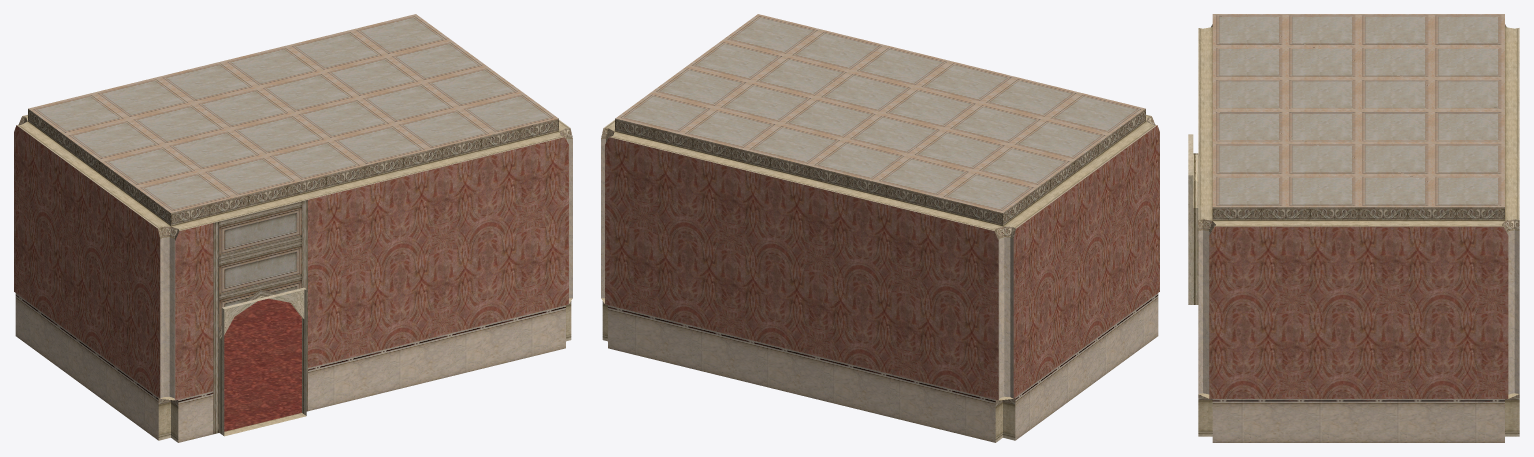
The model's file is ply_nboo_house_lg_s01_fp1_r10_room3_mesh_r10.fbx.
The picture shows the model from 3 angles, left to right: view 1: azimuth 30°, elevation 25°; view 2: azimuth 150°, elevation 25°; view 3: azimuth 270°, elevation 25°; orthographic projection. The views are drawn at different scales.
Parts seen in each view (by area): view 1: mesh_node; view 2: mesh_node; view 3: mesh_node.
Part boxes in pixels (box(x1,y1,x2,y2)): mesh_node: box(14, 14, 572, 442); mesh_node: box(601, 14, 1159, 442); mesh_node: box(1188, 14, 1519, 442).
Bounding box in the file's own units: 10 × 5.2 × 6.8.
